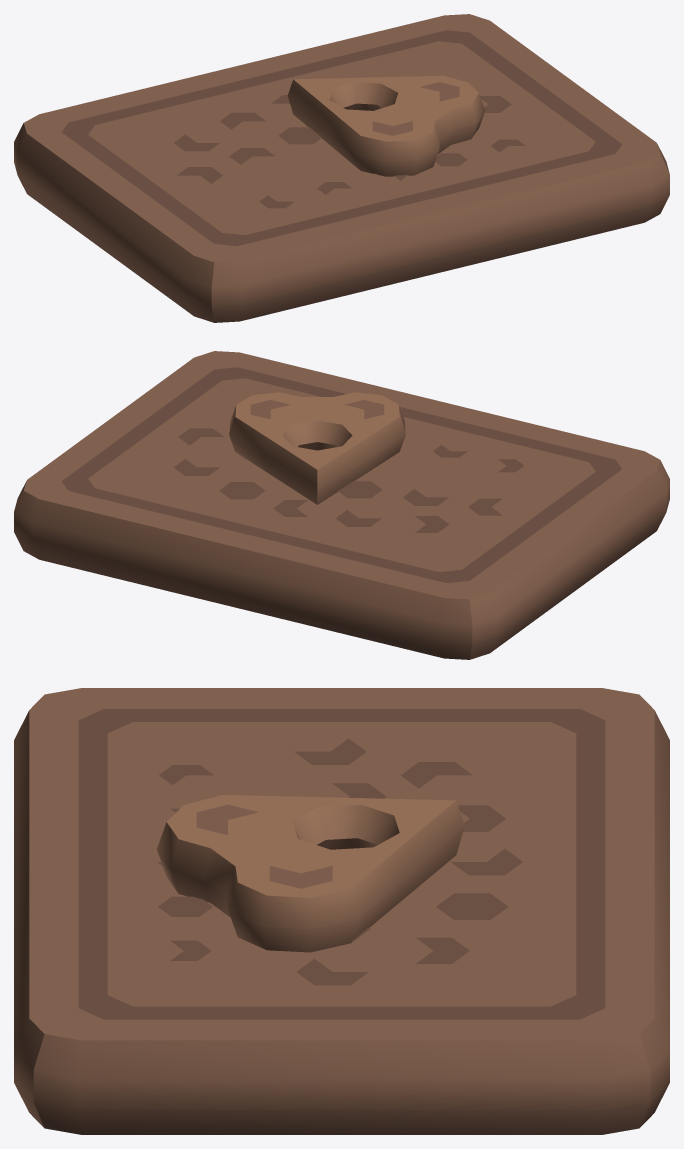
File: ouija_board.gltf
3 renders of one model, top to bottom at view 1: azimuth 30°, elevation 25°; view 2: azimuth 150°, elevation 25°; view 3: azimuth 270°, elevation 25°, orthographic. The views are drawn at different scales.
Parts seen in each view (by area): view 1: ouija_board, pointer; view 2: ouija_board, pointer; view 3: ouija_board, pointer.
Boxes of the visible parts, x1=… form: ouija_board: x1=14, y1=14, x2=669, y2=322; pointer: x1=287, y1=75, x2=485, y2=176; ouija_board: x1=14, y1=351, x2=669, y2=659; pointer: x1=229, y1=392, x2=405, y2=504; ouija_board: x1=14, y1=688, x2=669, y2=1134; pointer: x1=156, y1=795, x2=464, y2=952.
Bounding box in the file's own units: 0.9617 × 0.1836 × 0.7298.
1 material, 1 textured.
